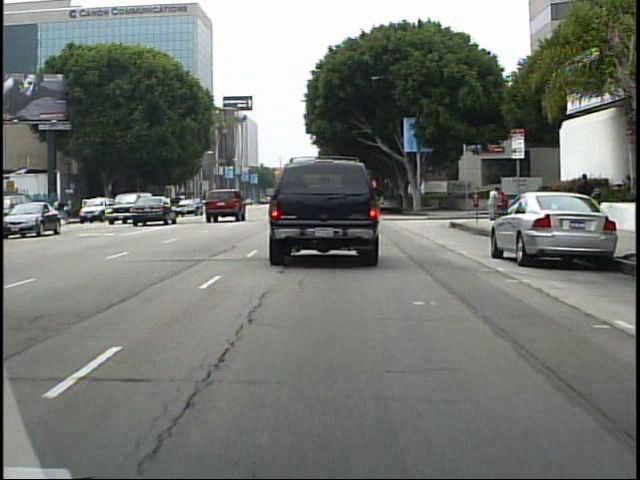person: (572, 169, 597, 233), (486, 185, 499, 219)
